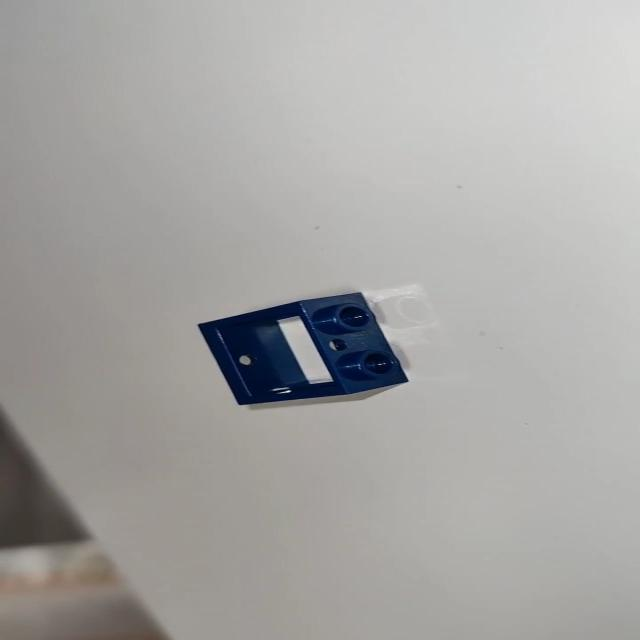W2x1x2: (191, 288, 418, 412)
